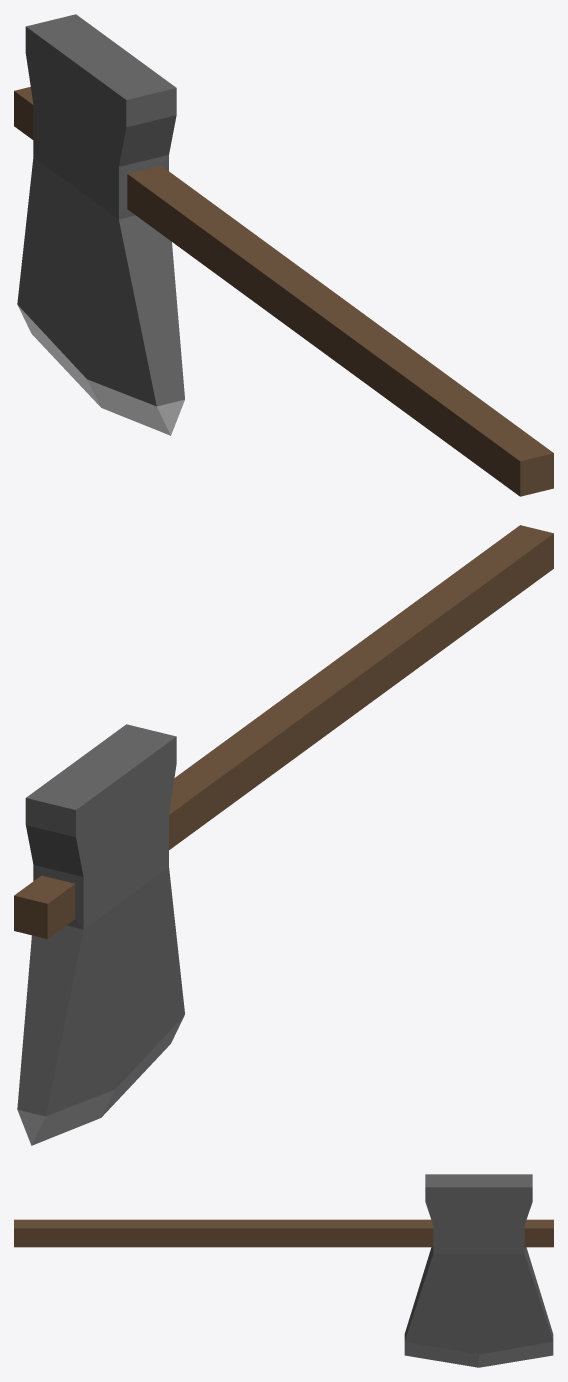
File: Axe.fbx
3 renders of one model, top to bottom at view 1: azimuth 30°, elevation 25°; view 2: azimuth 150°, elevation 25°; view 3: azimuth 270°, elevation 25°, orthographic. The views are drawn at different scales.
Visible parts, largest first — view 1: Head, Handle, Sharp Bit; view 2: Head, Handle, Sharp Bit; view 3: Head, Handle, Sharp Bit.
Boxes of the visible parts, bbox=[...] form: Head: bbox=[17, 14, 184, 406]; Handle: bbox=[14, 87, 553, 496]; Sharp Bit: bbox=[17, 305, 184, 435]; Head: bbox=[17, 724, 184, 1116]; Handle: bbox=[14, 525, 553, 938]; Sharp Bit: bbox=[17, 1015, 184, 1145]; Head: bbox=[404, 1174, 553, 1354]; Handle: bbox=[14, 1219, 553, 1247]; Sharp Bit: bbox=[404, 1341, 553, 1367].
Size of the model in its own units: 90.31 by 603 by 1577.
